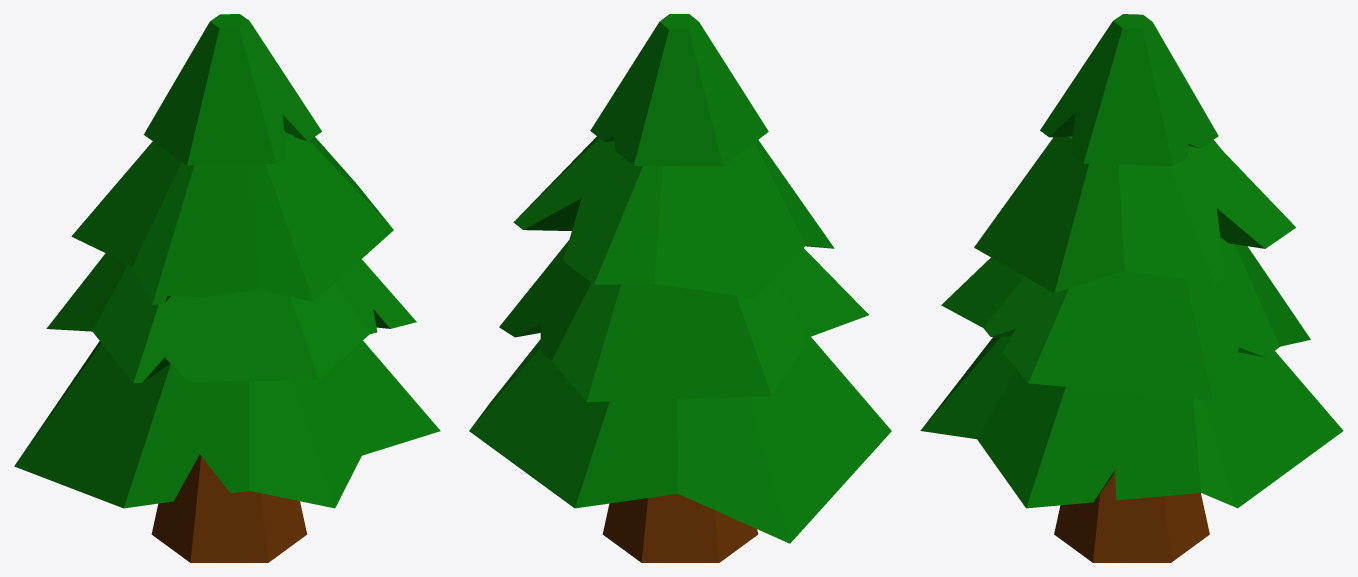
File: drzewo2.fbx
The picture shows the model from 3 angles, left to right: view 1: azimuth 30°, elevation 25°; view 2: azimuth 150°, elevation 25°; view 3: azimuth 270°, elevation 25°; orthographic projection.
Parts seen in each view (by area): view 1: doł, trzon; view 2: doł, trzon; view 3: doł, trzon.
Boxes of the visible parts, left/top/right/bottom form: doł: left=14, top=14, right=440, bottom=508; trzon: left=151, top=454, right=307, bottom=562; doł: left=469, top=14, right=891, bottom=543; trzon: left=602, top=494, right=758, bottom=562; doł: left=920, top=14, right=1343, bottom=508; trzon: left=1054, top=470, right=1209, bottom=562.
Bounding box in the file's own units: 476 × 728 × 543.
